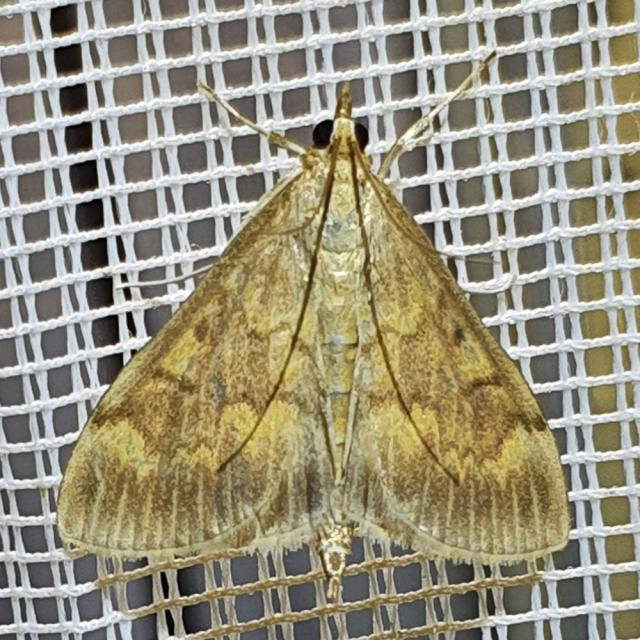cornborer-Adult-: (45, 38, 591, 594)
